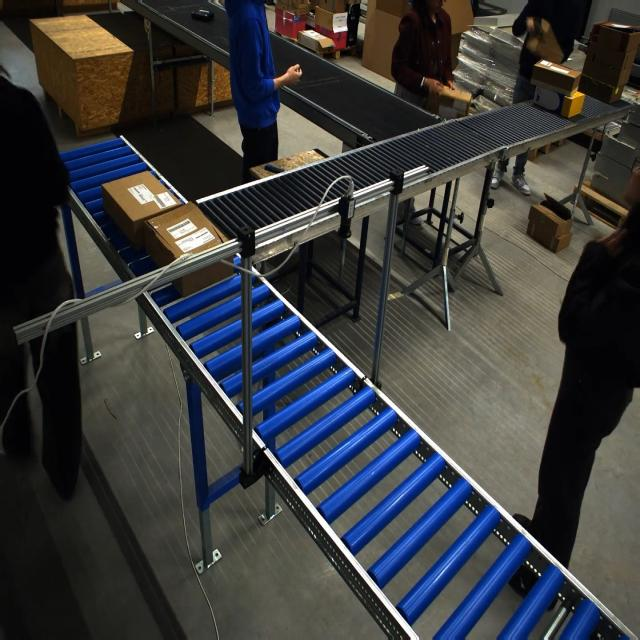box: (142, 202, 234, 294), (100, 171, 182, 250), (522, 18, 564, 63), (423, 83, 474, 118)
product: (191, 8, 214, 21)
